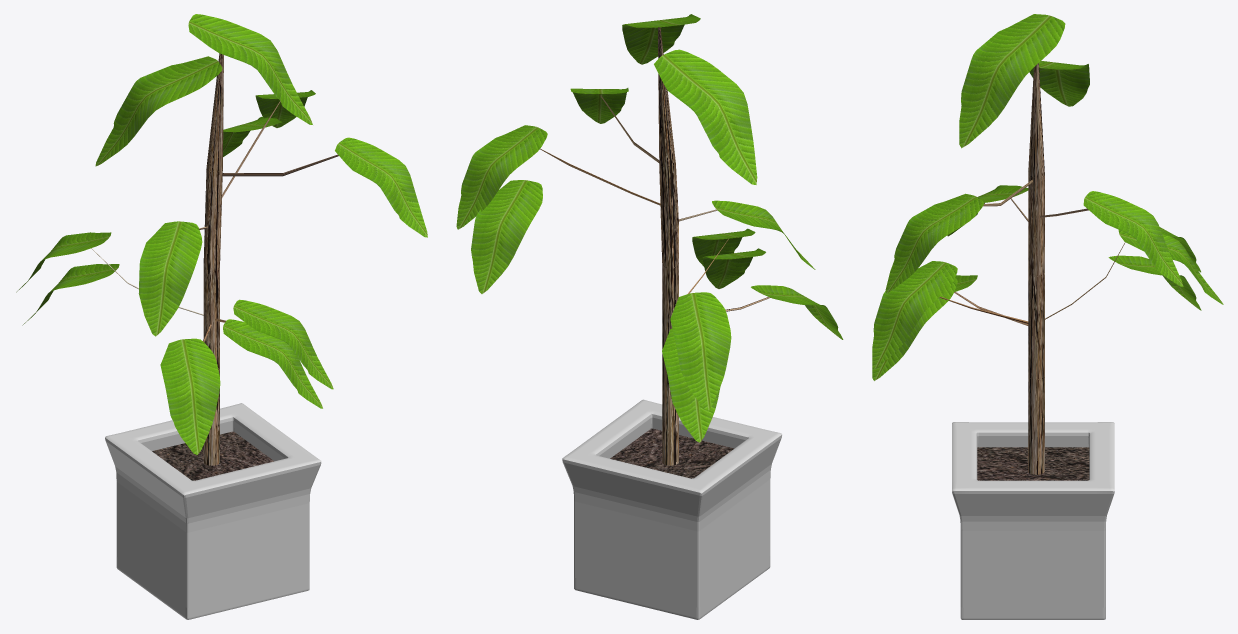
The model's file is pot.FBX.
The picture shows the model from 3 angles, left to right: view 1: azimuth 30°, elevation 25°; view 2: azimuth 150°, elevation 25°; view 3: azimuth 270°, elevation 25°; orthographic projection.
Parts seen in each view (by area): view 1: Box001, Cylinder001, Plane008, Plane009, Plane011, Plane007, Plane001 (×2), Plane010, Plane002, Plane006, Plane005, Plane003 (+1 smaller); view 2: Box001, Plane001 (×2), Plane011, Cylinder001, Plane004, Plane003, Plane005, Plane007, Plane010, Plane006, Plane009, Plane008 (+1 smaller); view 3: Box001, Cylinder001, Plane007, Plane002, Plane010, Plane001, Plane003, Plane011, Plane006, Plane004, Plane005, Plane009.
Boxes of the visible parts, x1,y1,x2,y2 form: Box001: (105,403,321,619); Cylinder001: (91,53,338,465); Plane008: (160,338,220,455); Plane009: (138,221,202,336); Plane011: (95,56,222,166); Plane007: (188,14,312,124); Plane001 (×2): (16,232,273,480); Plane010: (335,137,427,237); Plane002: (233,299,333,389); Plane006: (223,319,322,408); Plane005: (22,264,119,325); Plane003: (255,90,315,127); Box001: (562,399,781,619); Plane001 (×2): (610,292,734,478); Plane011: (654,49,757,184); Cylinder001: (528,27,778,465); Plane004: (471,180,542,293); Plane003: (456,125,547,229); Plane005: (662,328,720,442); Plane007: (622,14,700,64); Plane010: (570,88,628,123); Plane006: (703,248,765,288); Plane009: (712,200,815,269); Plane008: (751,285,843,339); Box001: (952,422,1114,619); Cylinder001: (939,63,1125,474); Plane007: (959,14,1065,148); Plane002: (872,261,957,368); Plane010: (885,193,983,293); Plane001: (977,447,1089,480); Plane003: (1083,191,1183,286); Plane011: (1029,61,1089,106); Plane006: (872,278,957,380); Plane004: (1118,230,1223,304); Plane005: (1108,255,1201,310); Plane009: (947,185,1028,236).
Bounding box in the file's own units: 43.45 × 86.09 × 48.43.
